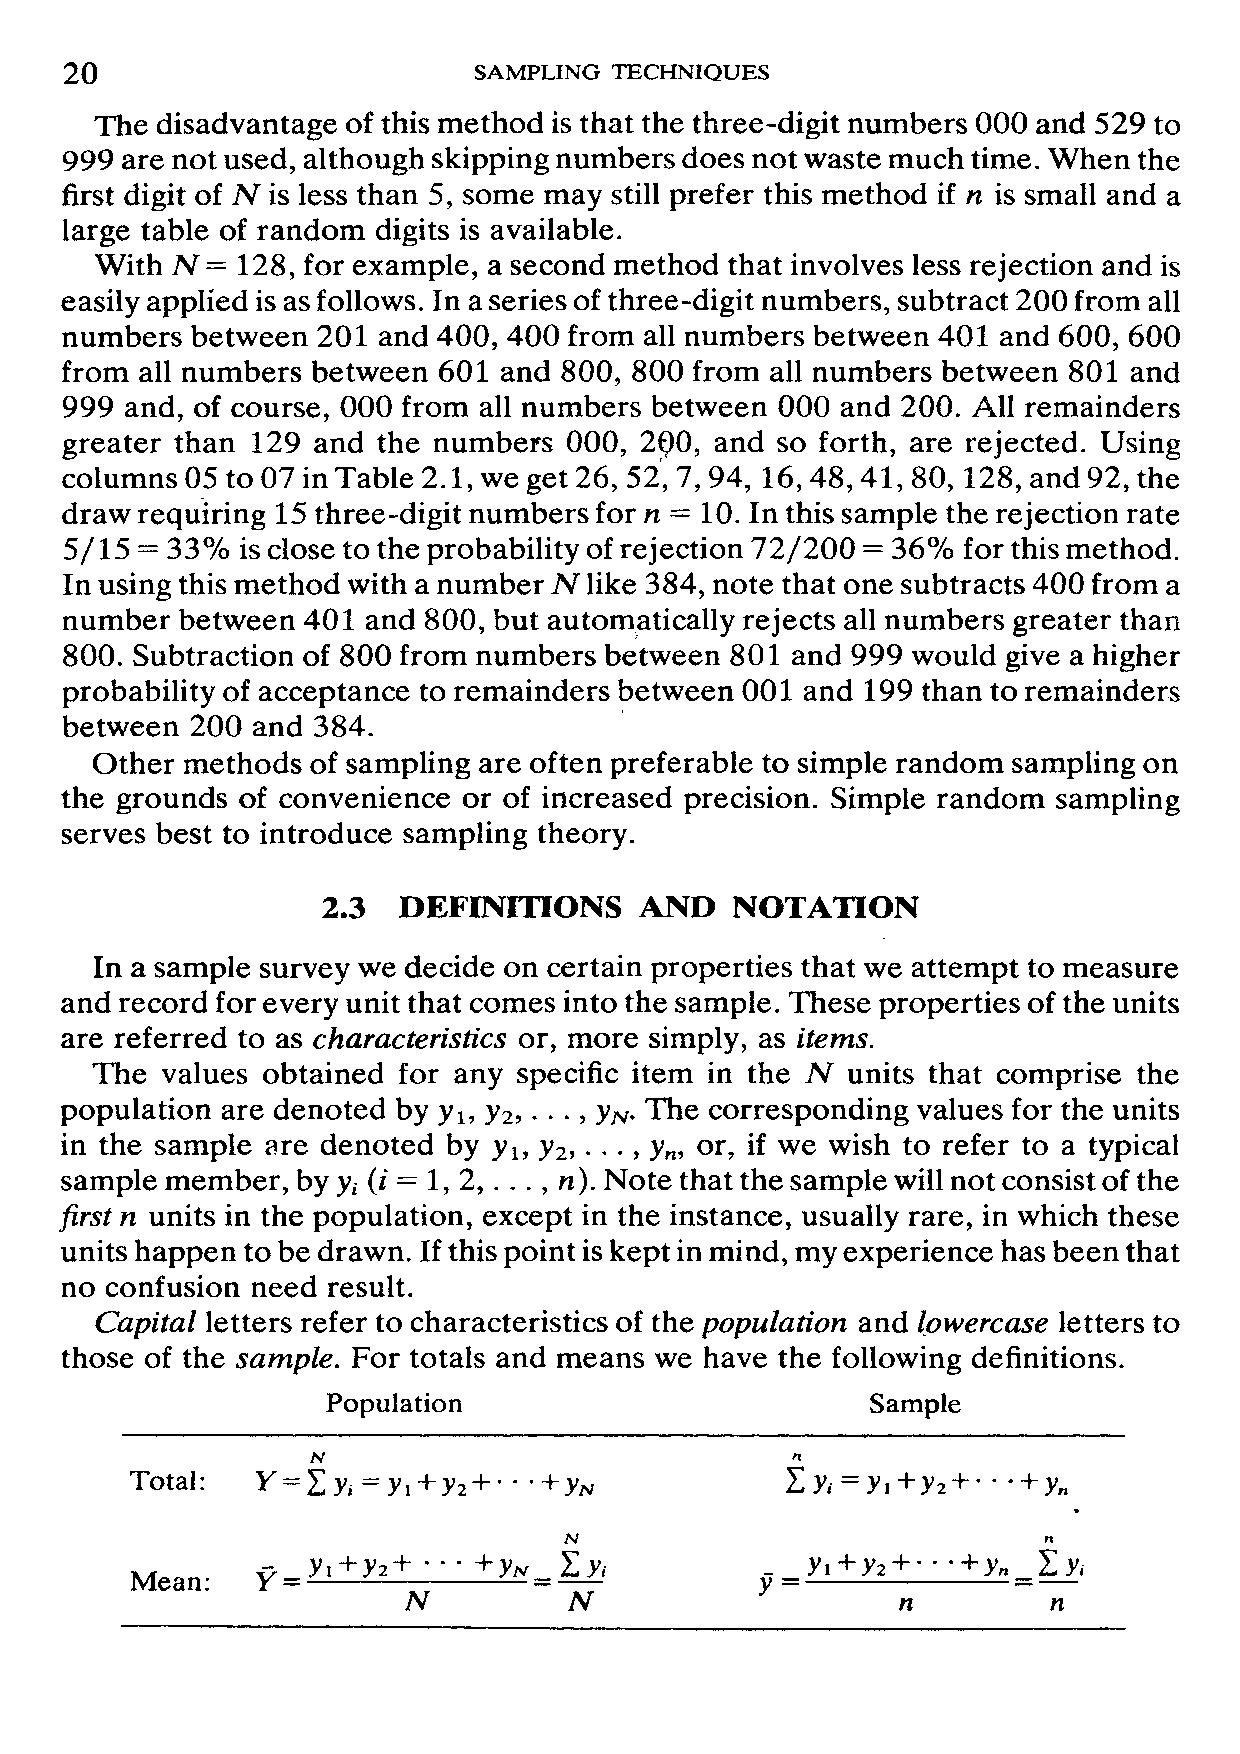chapter: (321, 888, 925, 921)
content: (58, 107, 1188, 849), (56, 954, 1184, 1622)
content_chapter: (462, 56, 778, 85)
content_pagenumber: (58, 55, 101, 85)
